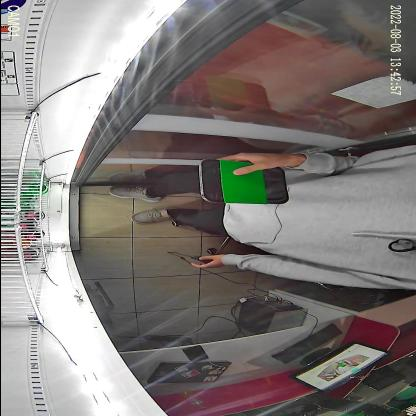green: (198, 159, 288, 205)
